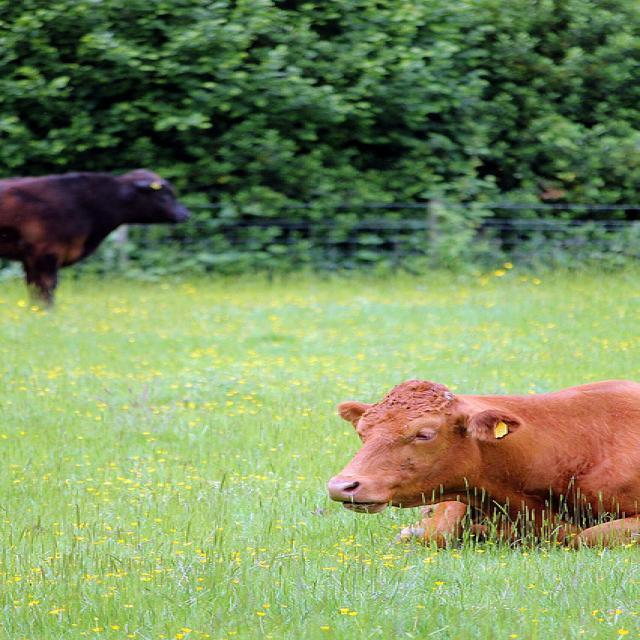cow: (323, 379, 639, 550), (0, 168, 189, 310)
